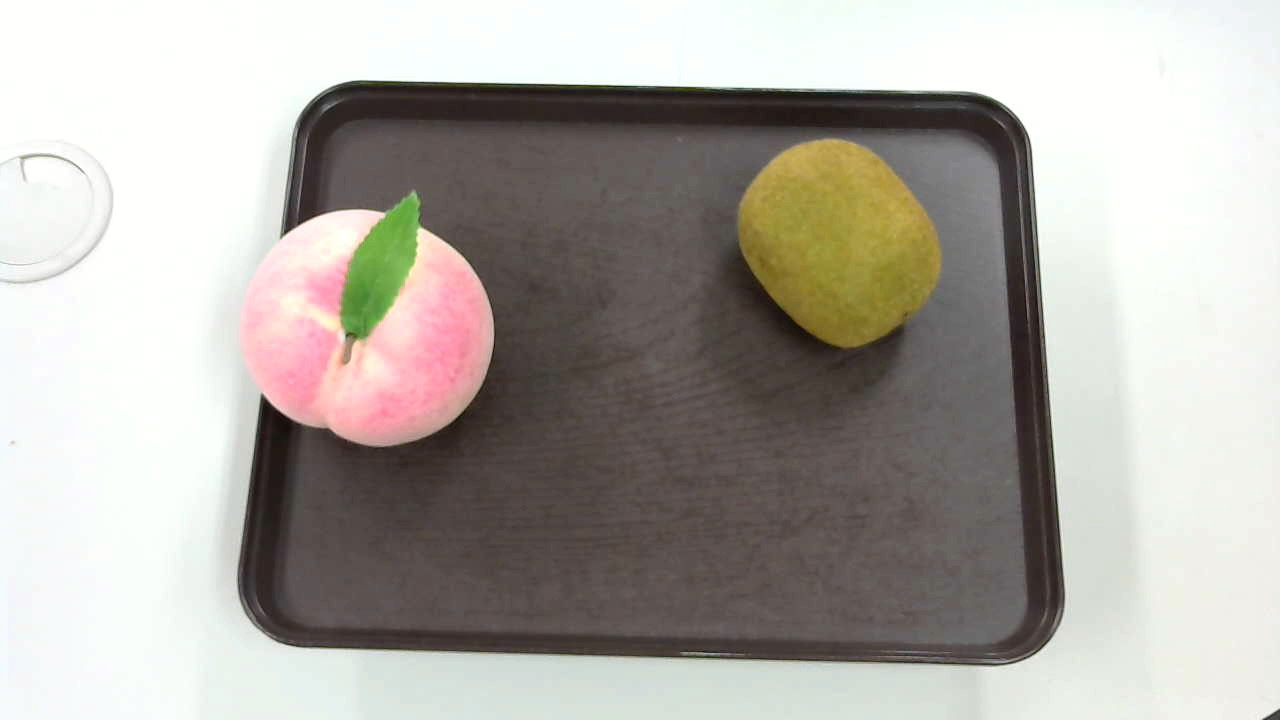kiwi fruit: (726, 135, 952, 356)
peach: (233, 191, 498, 442)
